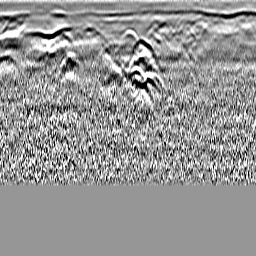cavity: (118, 26, 138, 43)
